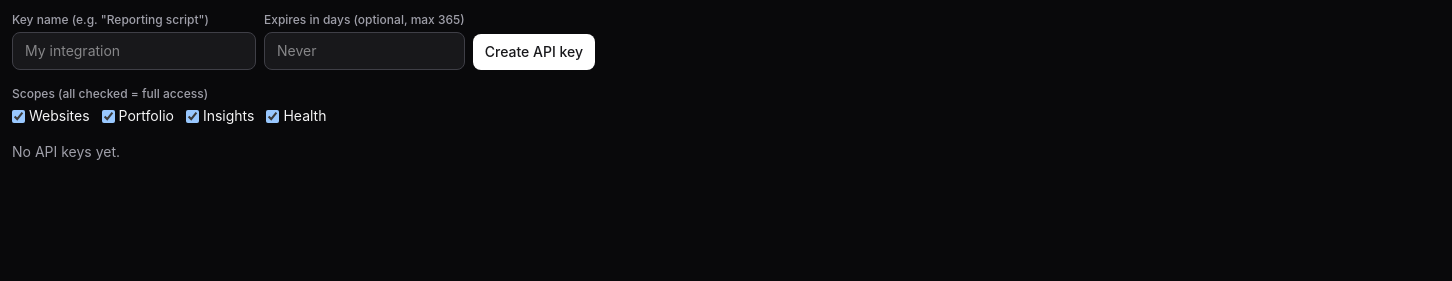
Test: gap closure: json parse failures and busy guards › a double create only posts once (busy guard)
In the field labelled "Key name (e.g. \"Reporting script\")": (134, 51) top-left (12, 32), bottom-right (256, 70), type "Key"
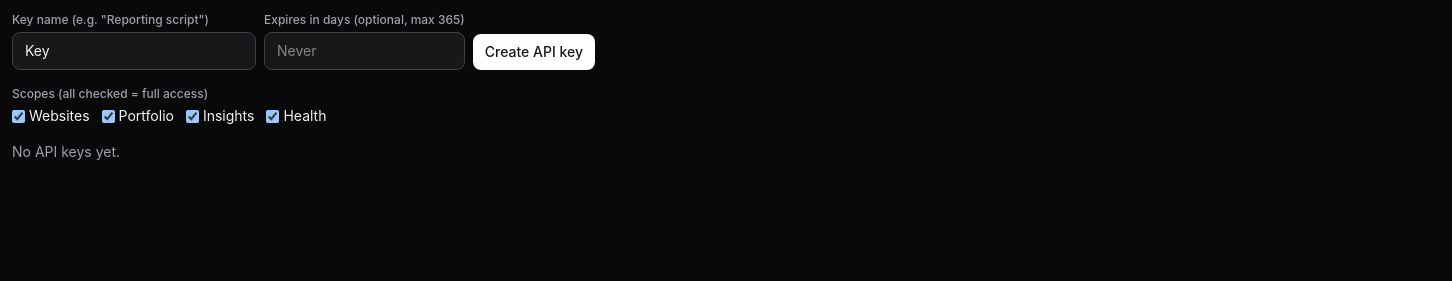
Click the button "Create API key": (534, 52) top-left (473, 34), bottom-right (595, 70)
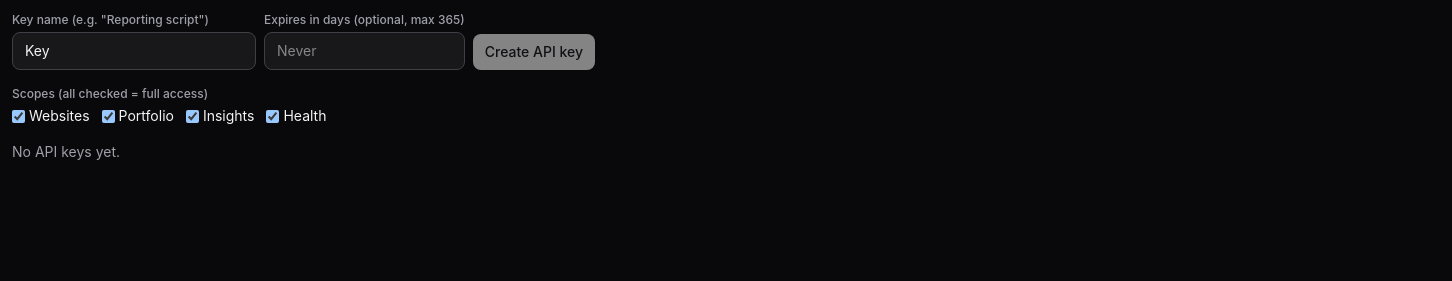
Click the button "Create API key": (534, 52) top-left (473, 34), bottom-right (595, 70)
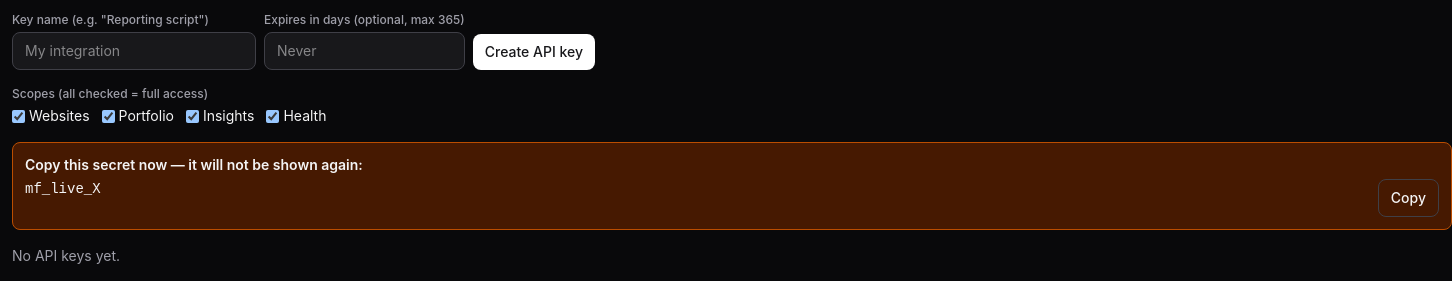
Now the text "mf_live_X" is shown, box top-left (25, 181), bottom-right (101, 197)
